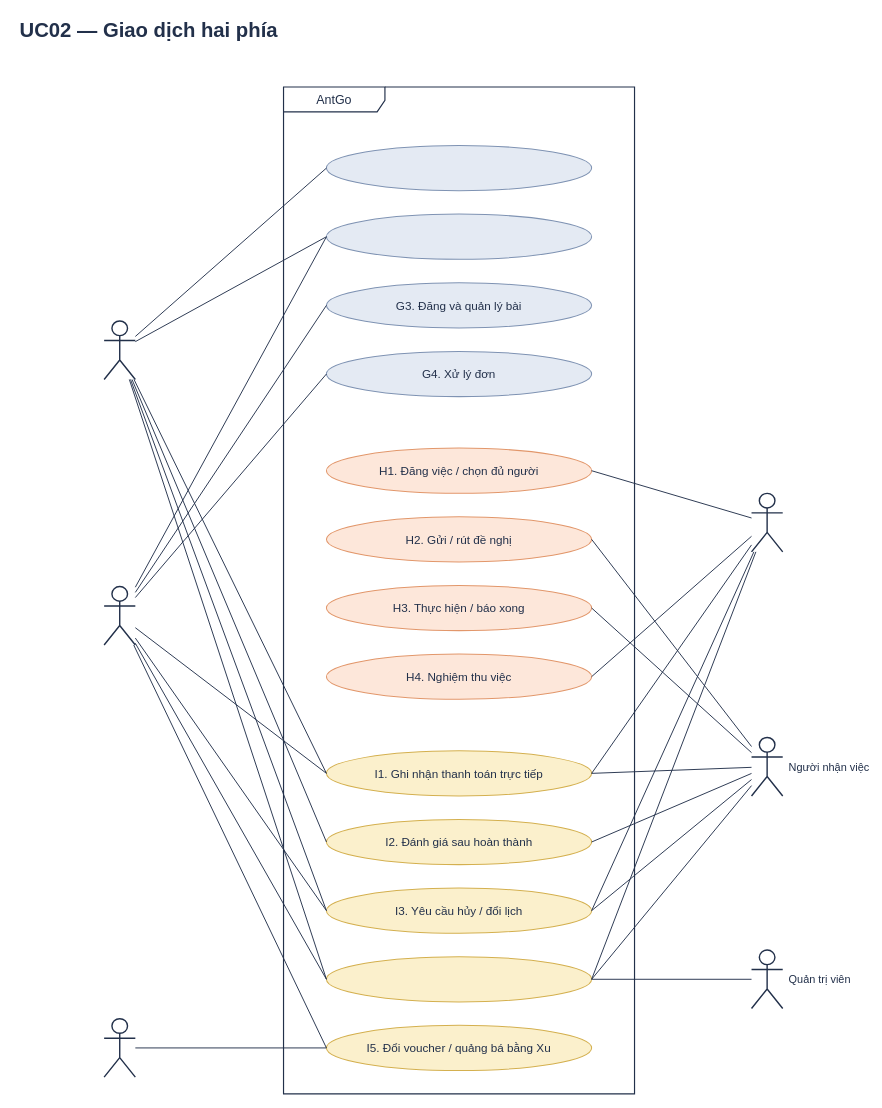
This 882x1108 diagram has some shape labels left out. Here are the shapes that lost their labels. From the top down, the centre of each, then its label:
At [459,168]: "G1. Đặt hàng / dịch vụ".
At [459,236]: "G2. Báo giá, phụ thu và duyệt giá".
At [119,350]: "Người mua".
At [766,522]: "Người đăng việc".
At [119,615]: "Người bán / Cung cấp dịch vụ".
At [459,979]: "I4. Hậu mãi / tranh chấp".
At [119,1047]: "Thành viên".
